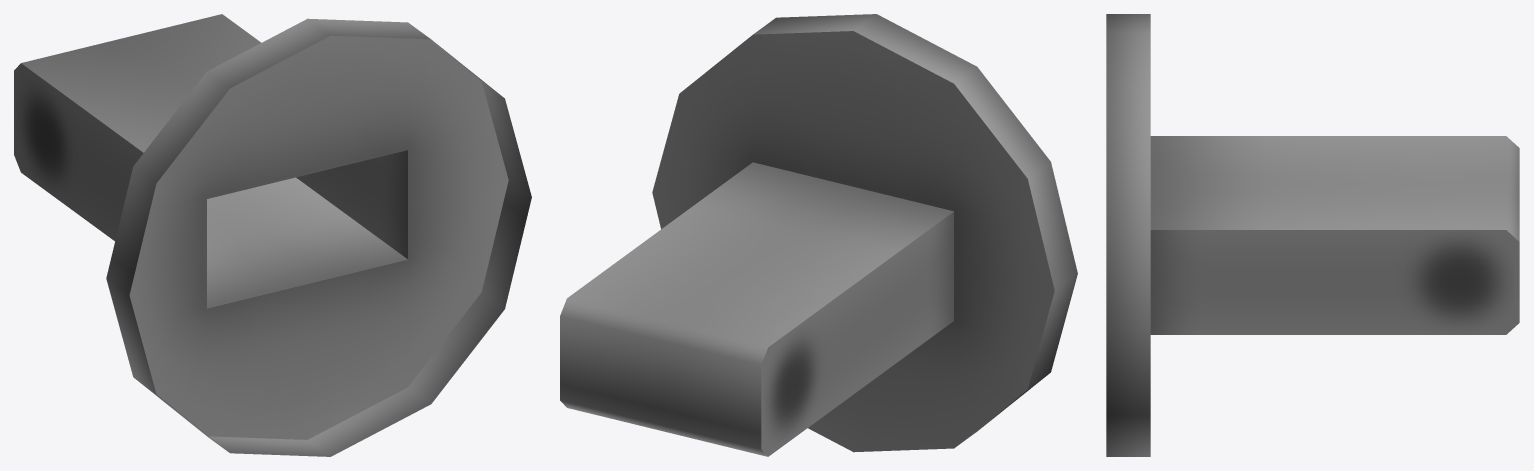
The model's file is Eridani_Solar_1_Pivot_0.obj.
3 views of the same model, side by side, from view 1: azimuth 30°, elevation 25°; view 2: azimuth 150°, elevation 25°; view 3: azimuth 270°, elevation 25° (orthographic). The views are drawn at different scales.
Visible parts, largest first — view 1: Eridani_Solar_1_Pivot_0; view 2: Eridani_Solar_1_Pivot_0; view 3: Eridani_Solar_1_Pivot_0.
Part boxes in pixels (bbox=[...]): Eridani_Solar_1_Pivot_0: bbox=[14, 14, 531, 456]; Eridani_Solar_1_Pivot_0: bbox=[560, 14, 1077, 456]; Eridani_Solar_1_Pivot_0: bbox=[1106, 14, 1519, 456].
Bounding box in the file's own units: 0.05 × 0.05 × 0.0465.
